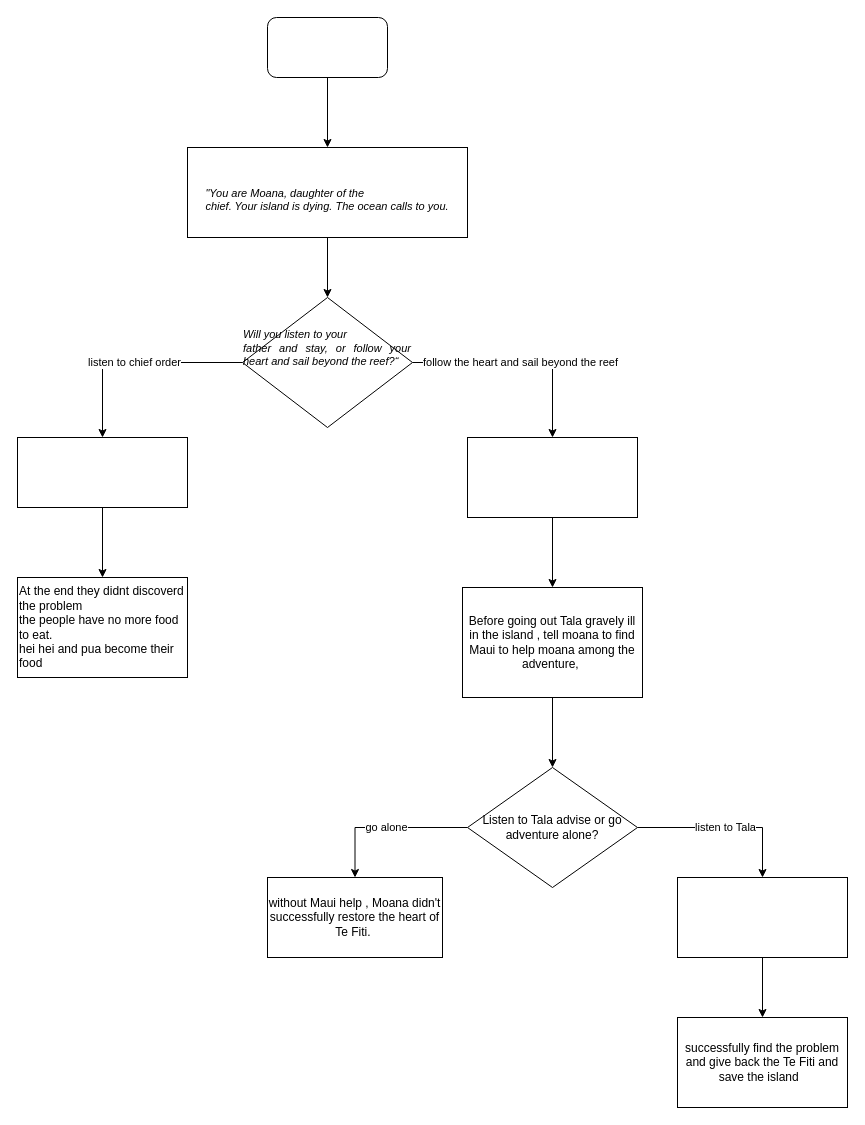
Some shapes in this 865 by 1125 pixel diagram are drawn without their labels. The box of each missing label's shape, as (x1, y1, x2, y2) in pixels:
find Maui and help Maui to find the hook: (676, 876, 848, 958)
Moana decided to follow the heart and sail beyond the reef .: (466, 436, 638, 518)
start: (266, 16, 388, 78)
stay in the island: (16, 436, 188, 508)
